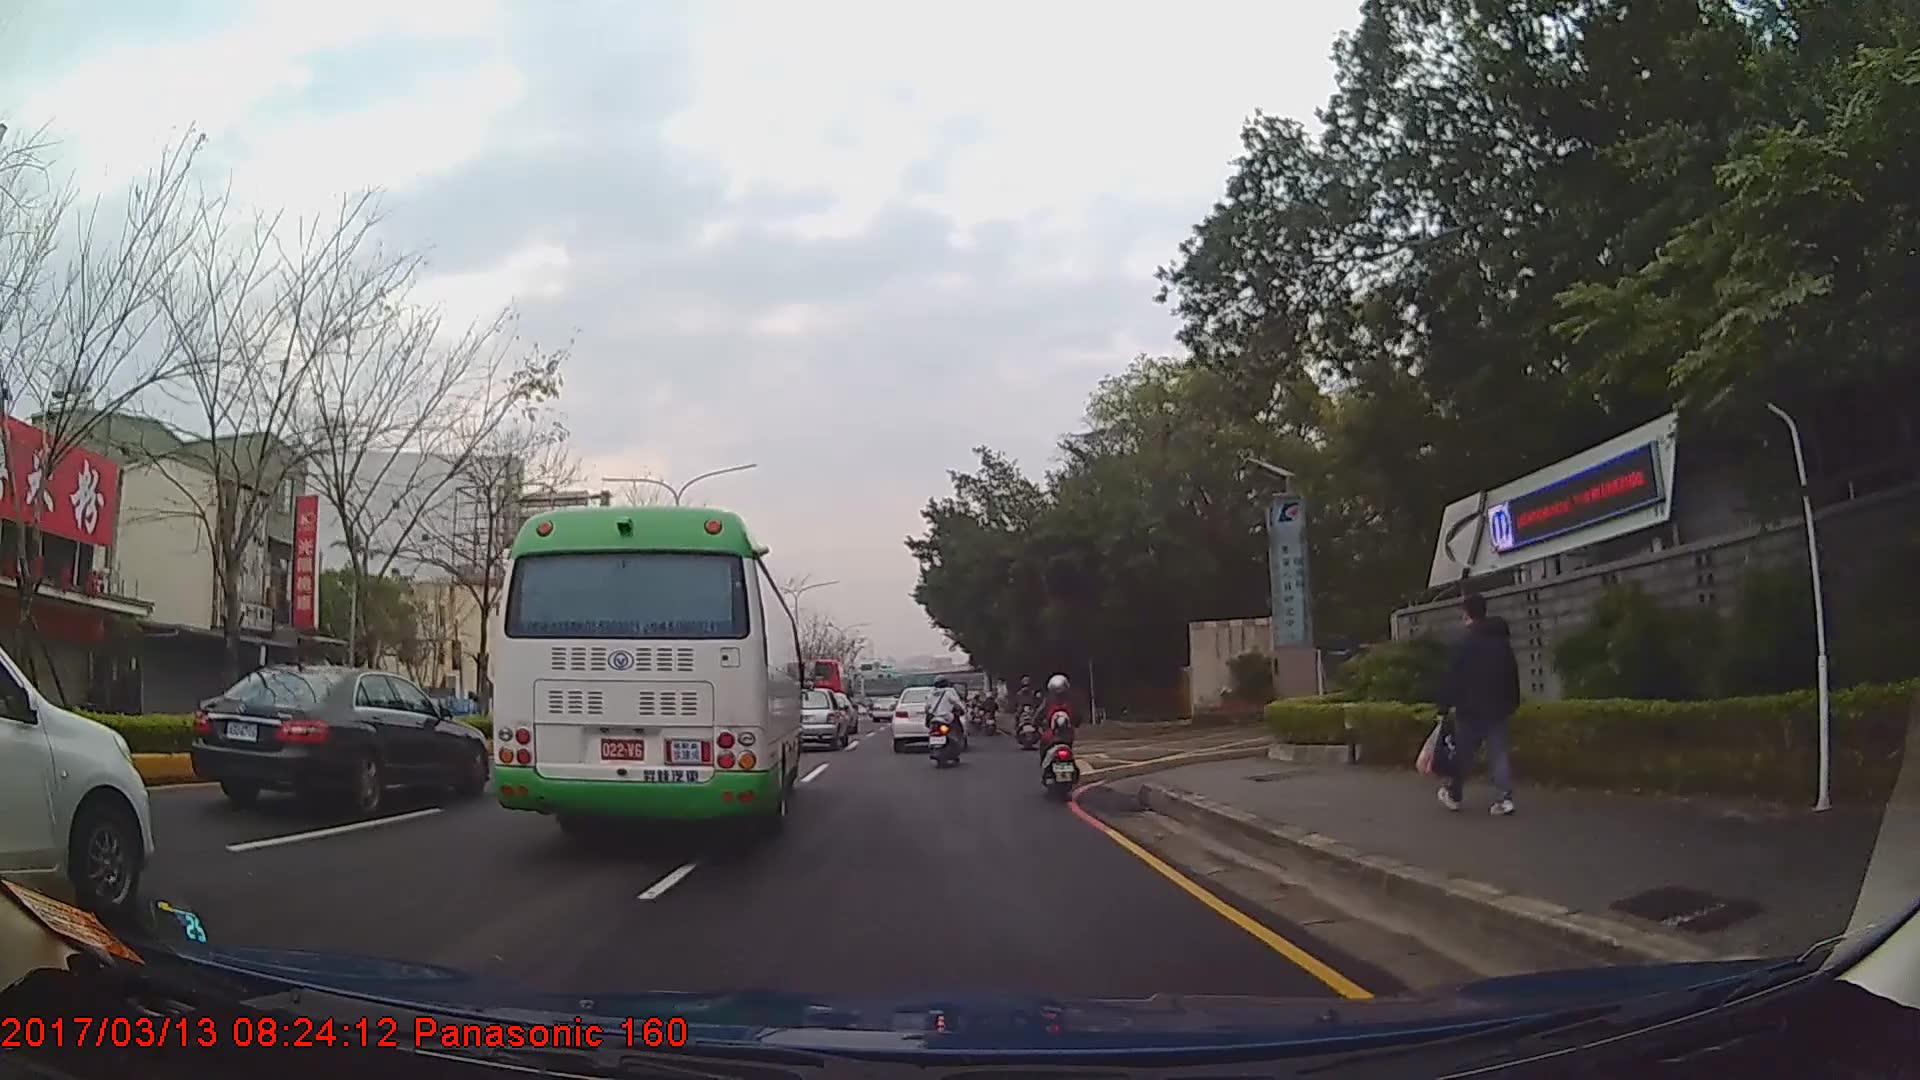pedestrian: (1417, 595, 1519, 816)
rider: (1037, 671, 1078, 797), (926, 676, 967, 766), (1010, 675, 1043, 751), (980, 692, 1000, 726)
vehicle: (491, 505, 802, 845), (187, 663, 489, 817), (0, 642, 153, 916), (891, 684, 964, 753), (798, 688, 849, 750)
